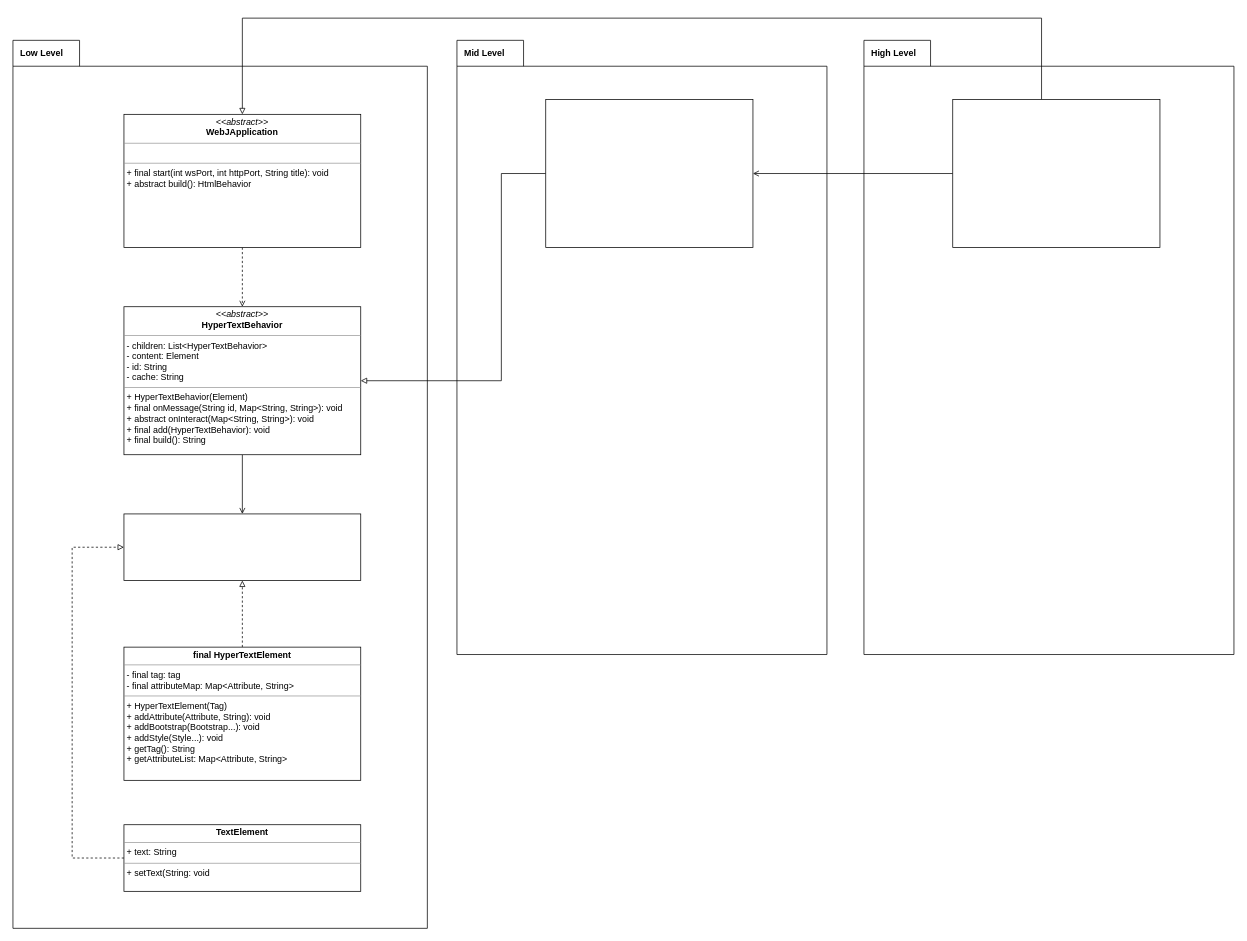
Some shapes in this 1247 by 941 pixel diagram are drawn without their labels. The centre of each missing label's shape, as x and y in pixels:
"<<Interface>> Element" belongs at (x=242, y=547).
"Component" belongs at (x=649, y=173).
"CustomApplication" belongs at (x=1056, y=173).
